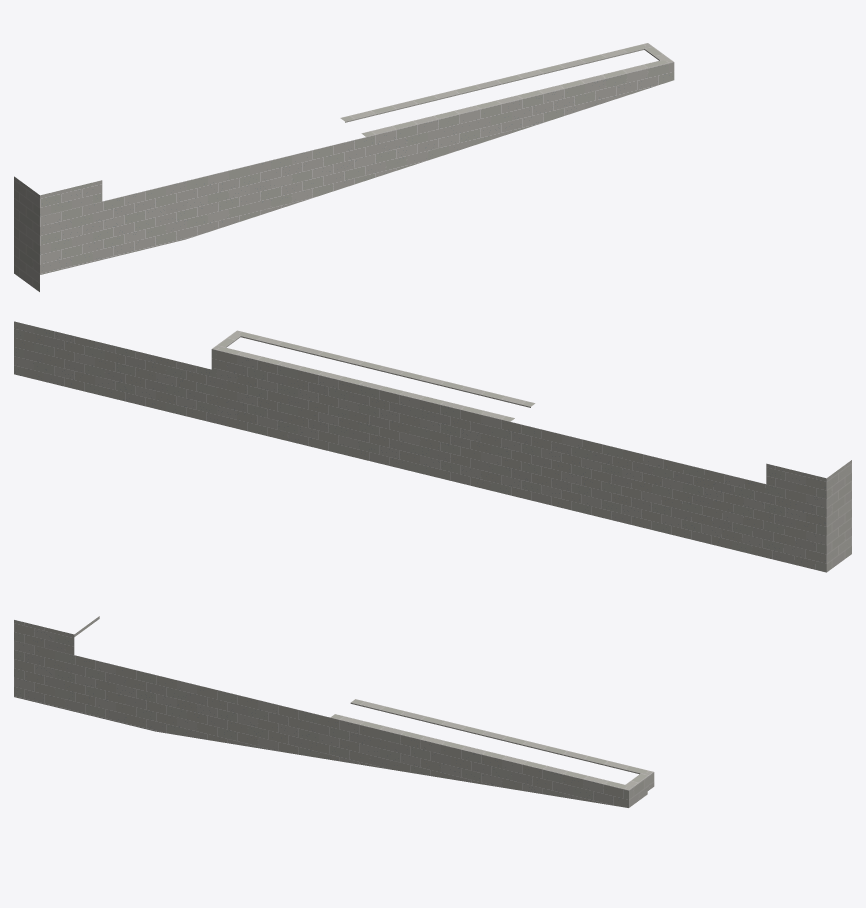
File: kd_stage_135ded_4_118_exterior.glb
3 views of the same model, one above another, from view 1: azimuth 30°, elevation 25°; view 2: azimuth 150°, elevation 25°; view 3: azimuth 330°, elevation 25° (orthographic). The views are drawn at different scales.
Parts seen in each view (by area): view 1: kd_stage_135ded_4_118_exterior; view 2: kd_stage_135ded_4_118_exterior; view 3: kd_stage_135ded_4_118_exterior.
Part boxes in pixels (x1,y1,x2,y2): kd_stage_135ded_4_118_exterior: (14,43,674,291); kd_stage_135ded_4_118_exterior: (14,321,851,572); kd_stage_135ded_4_118_exterior: (14,616,654,807).
Size of the model in its own units: 14.4 by 1.6 by 0.7777.
1 material, 1 textured.
